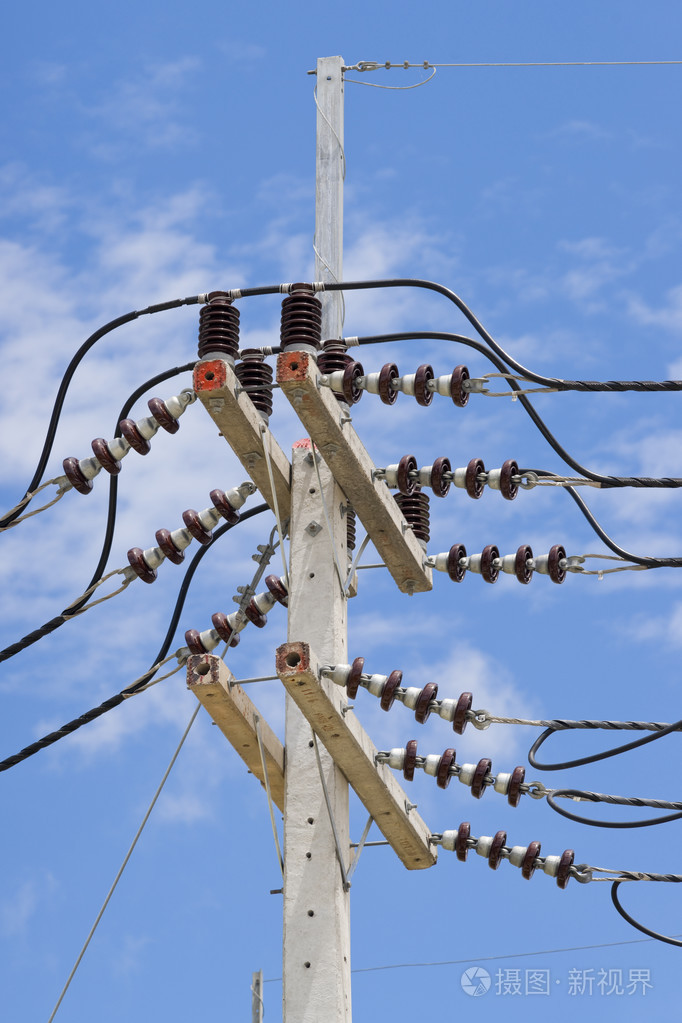insulator: (339, 654, 474, 733), (128, 491, 235, 585), (62, 403, 175, 491), (444, 814, 577, 886), (392, 738, 525, 808), (185, 576, 285, 655), (338, 363, 473, 408), (392, 455, 522, 501), (438, 541, 569, 586)
